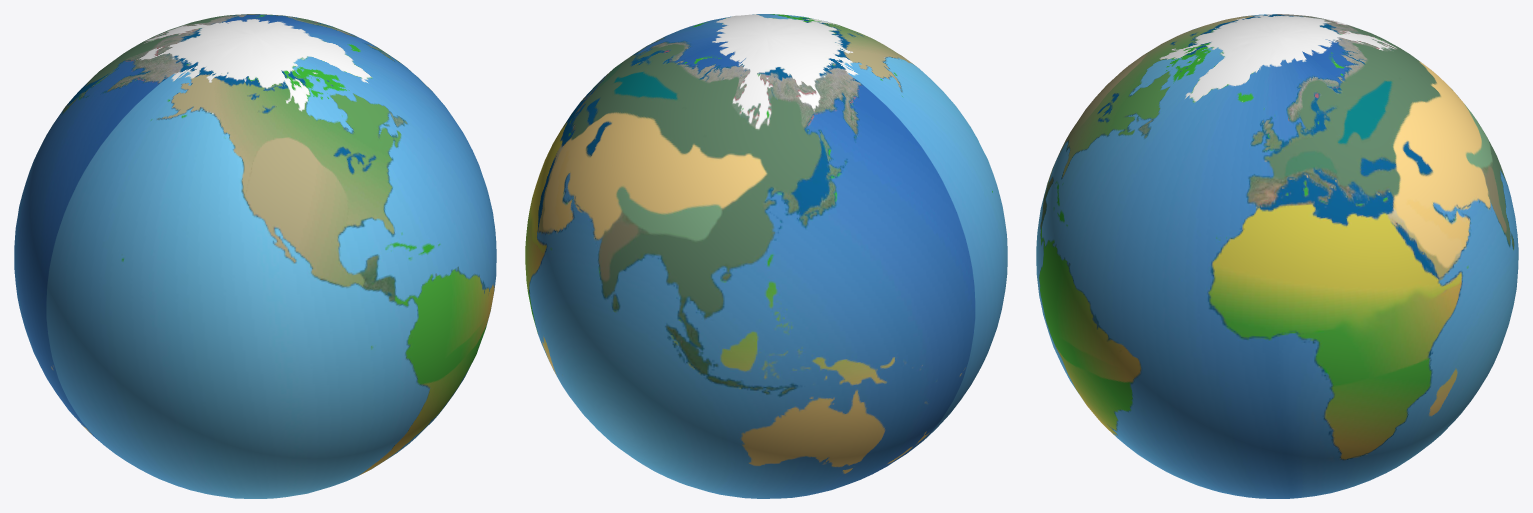
File: earth-flat.glb
3 renders of one model, left to right at view 1: azimuth 30°, elevation 25°; view 2: azimuth 150°, elevation 25°; view 3: azimuth 270°, elevation 25°, orthographic.
Visible parts, largest first — view 1: Object_4; view 2: Object_4; view 3: Object_4.
Boxes of the visible parts, x1=… form: Object_4: x1=14, y1=14, x2=496, y2=498; Object_4: x1=525, y1=14, x2=1007, y2=498; Object_4: x1=1036, y1=14, x2=1518, y2=498.
Size of the model in its own units: 2.23 by 2.25 by 2.23.
Materials: 1 (1 with a texture image).
